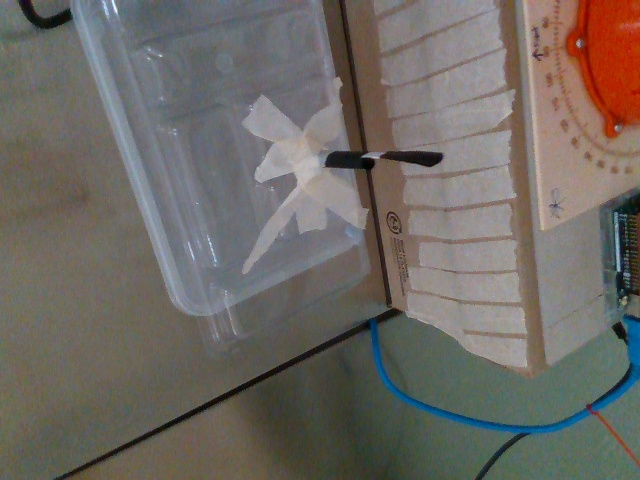test_strip: (362, 148, 444, 166)
